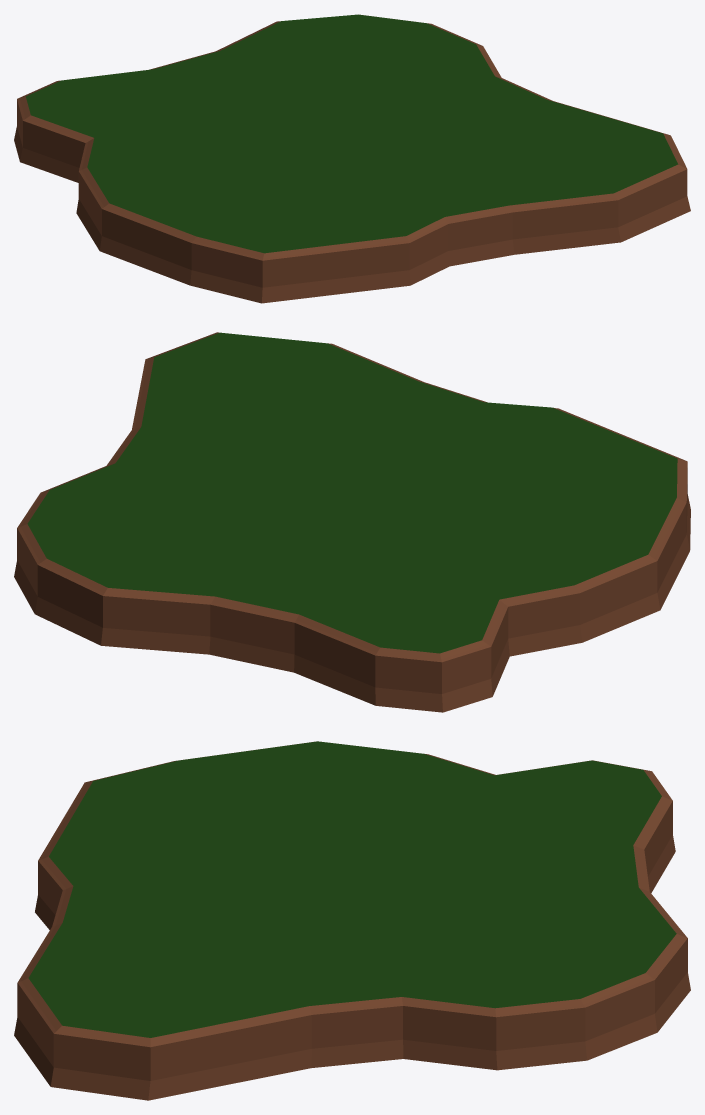
File: SM_platform_grass_03.fbx
3 views of the same model, one above another, from view 1: azimuth 30°, elevation 25°; view 2: azimuth 150°, elevation 25°; view 3: azimuth 270°, elevation 25° (orthographic). The views are drawn at different scales.
Visible parts, largest first — view 1: platform_grass_03; view 2: platform_grass_03; view 3: platform_grass_03.
Boxes of the visible parts, bbox=[...] form: platform_grass_03: bbox=[14, 14, 690, 303]; platform_grass_03: bbox=[14, 332, 690, 712]; platform_grass_03: bbox=[14, 741, 690, 1100].
Size of the model in its own units: 3671 by 313 by 3400.
